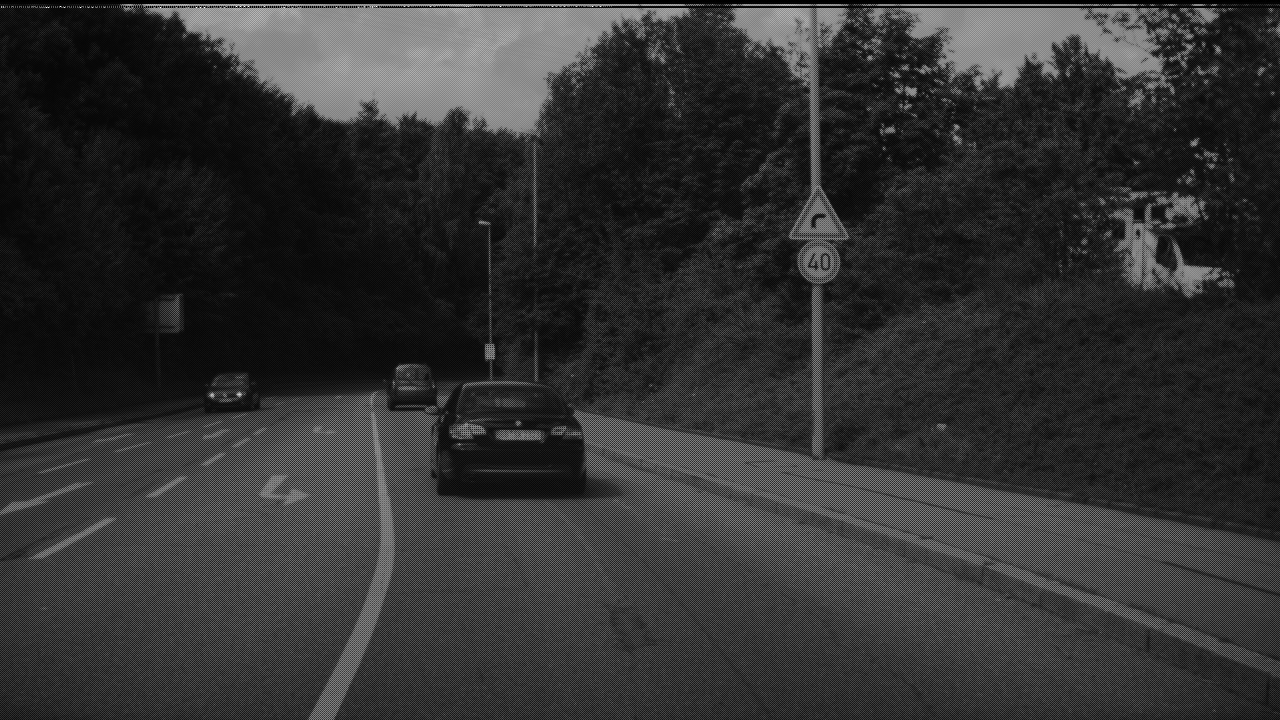pole: (808, 1, 824, 451), (531, 127, 539, 373), (486, 215, 492, 371)
